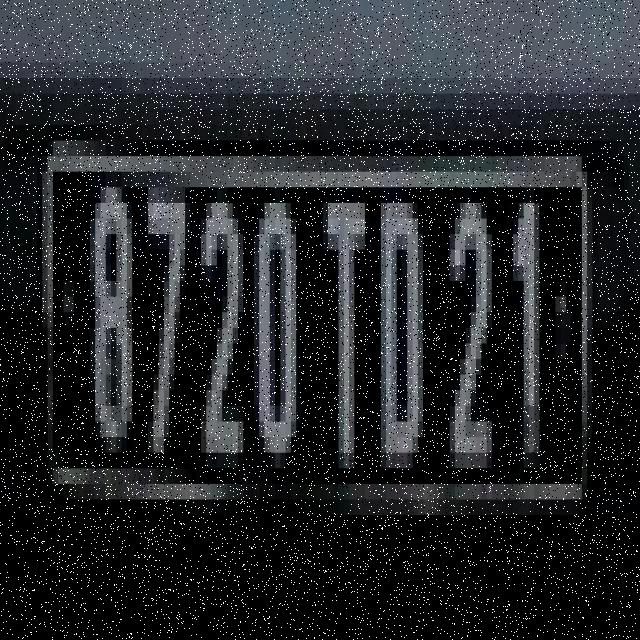licenseplate: (46, 142, 586, 515)
